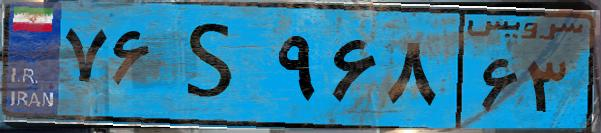3: (525, 38, 570, 115)
6: (330, 28, 385, 110), (475, 38, 525, 113), (110, 28, 158, 98)
7: (57, 26, 110, 100)
8: (385, 28, 445, 110)
9: (270, 28, 330, 110)
S: (158, 12, 270, 120)
